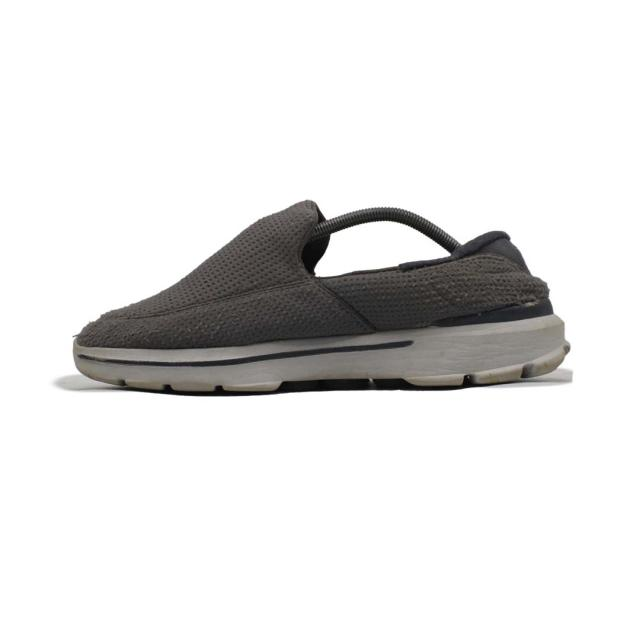heel: (507, 227, 558, 318)
midsole: (76, 328, 574, 405)
uppersole: (73, 197, 513, 345)
